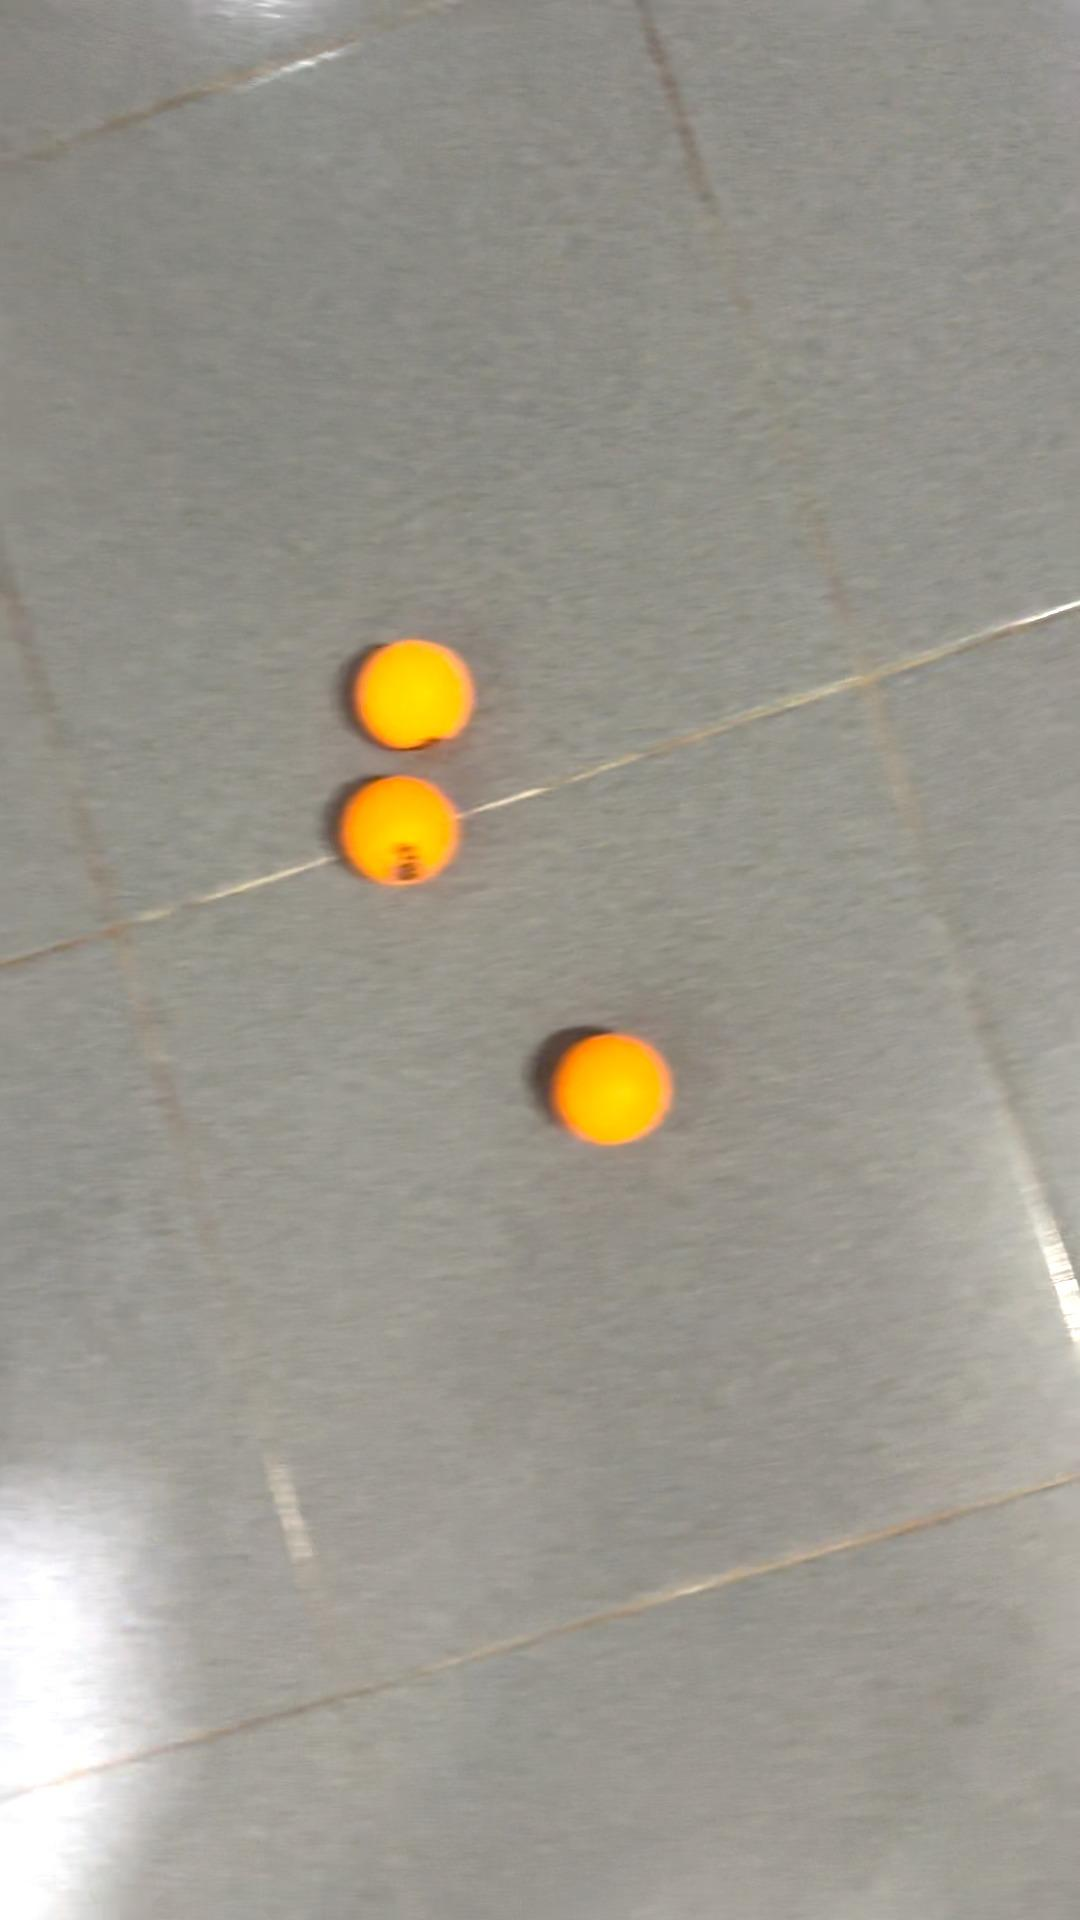oball: (545, 1021, 679, 1158), (328, 774, 471, 902), (348, 630, 480, 753)
